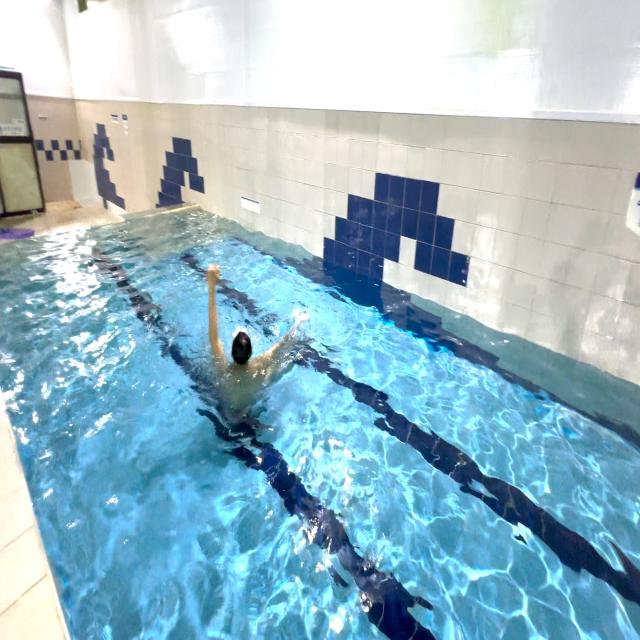Drowning: (192, 240, 315, 458)
